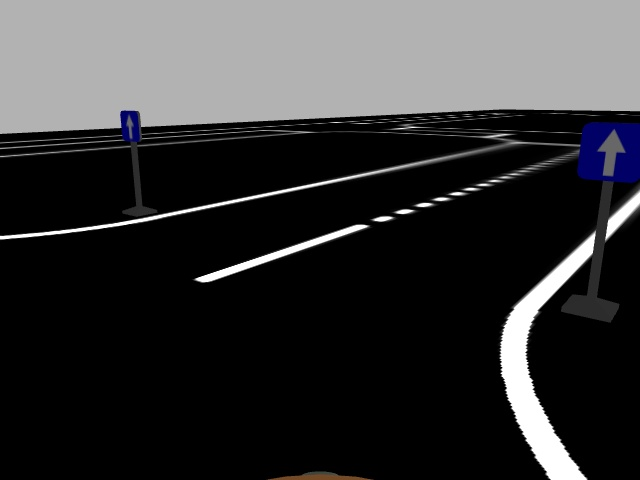oneway: (576, 119, 640, 186), (117, 107, 142, 147)
